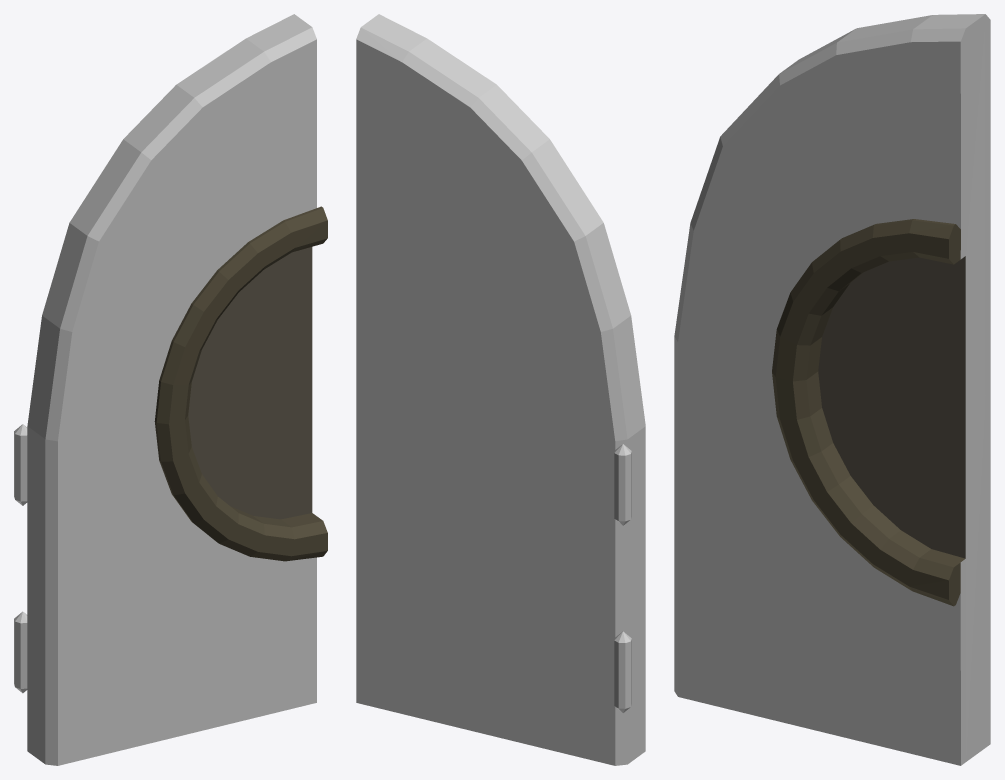
File: EVT_MAINHALL_DOOR_LEFT_01.OBJ
3 renders of one model, left to right at view 1: azimuth 30°, elevation 25°; view 2: azimuth 150°, elevation 25°; view 3: azimuth 330°, elevation 25°, orthographic. The views are drawn at different scales.
Parts seen in each view (by area): view 1: EVT_MAINHALL_DOOR_LEFT_01; view 2: EVT_MAINHALL_DOOR_LEFT_01; view 3: EVT_MAINHALL_DOOR_LEFT_01.
Boxes of the visible parts, x1=… form: EVT_MAINHALL_DOOR_LEFT_01: x1=14, y1=14, x2=327, y2=765; EVT_MAINHALL_DOOR_LEFT_01: x1=356, y1=14, x2=645, y2=765; EVT_MAINHALL_DOOR_LEFT_01: x1=674, y1=14, x2=990, y2=765.
Bounding box in the file's own units: 1.75 × 4.09 × 0.4705.
